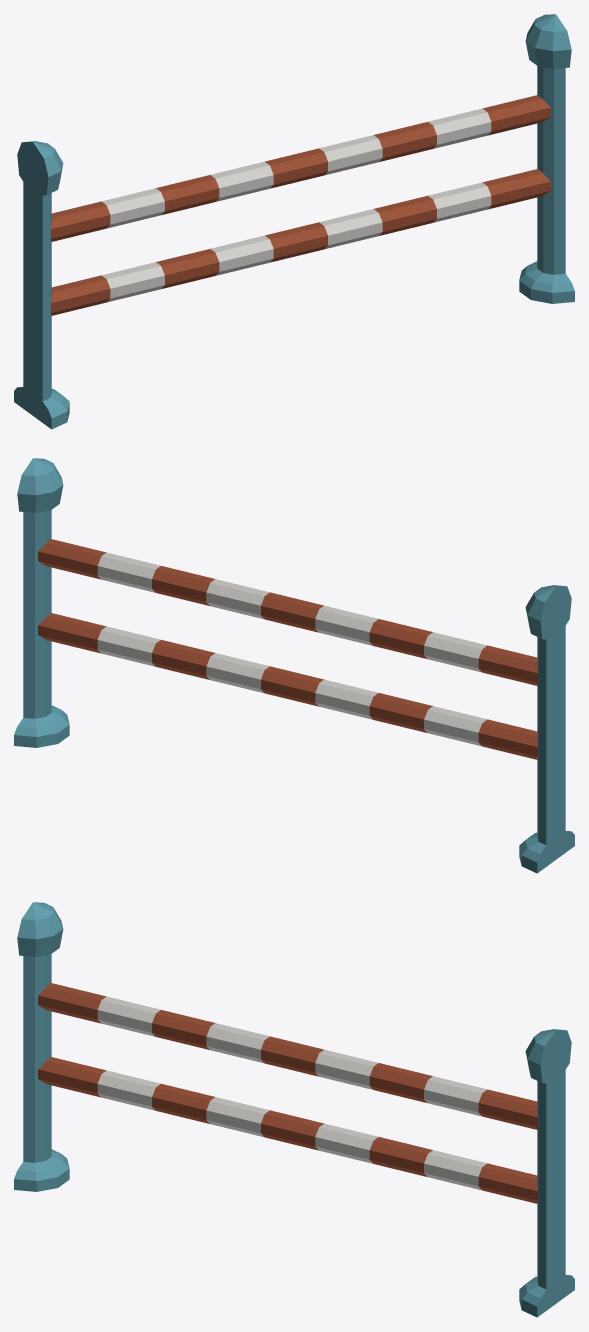
File: ride-queue-rail-650936.glb
3 renders of one model, top to bottom at view 1: azimuth 30°, elevation 25°; view 2: azimuth 150°, elevation 25°; view 3: azimuth 330°, elevation 25°, orthographic.
Visible parts, largest first — view 1: queue-rail; view 2: queue-rail; view 3: queue-rail.
Part boxes in pixels (left/top/right/bottom): queue-rail: left=14, top=14, right=574, bottom=429; queue-rail: left=14, top=458, right=574, bottom=873; queue-rail: left=14, top=902, right=574, bottom=1317.
Bounding box in the file's own units: 2 × 1 × 0.25.
